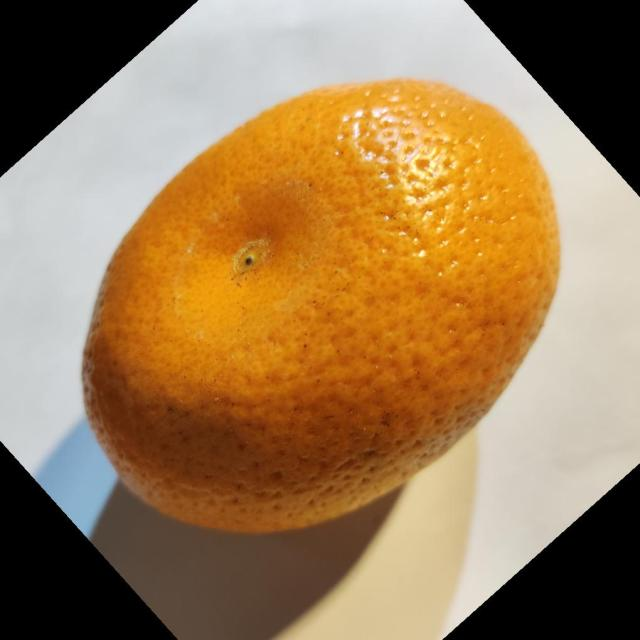fresh orange: (80, 76, 561, 535)
